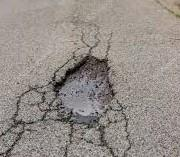crack: (2, 85, 47, 157), (86, 126, 138, 157)
pothole: (56, 56, 124, 121)
